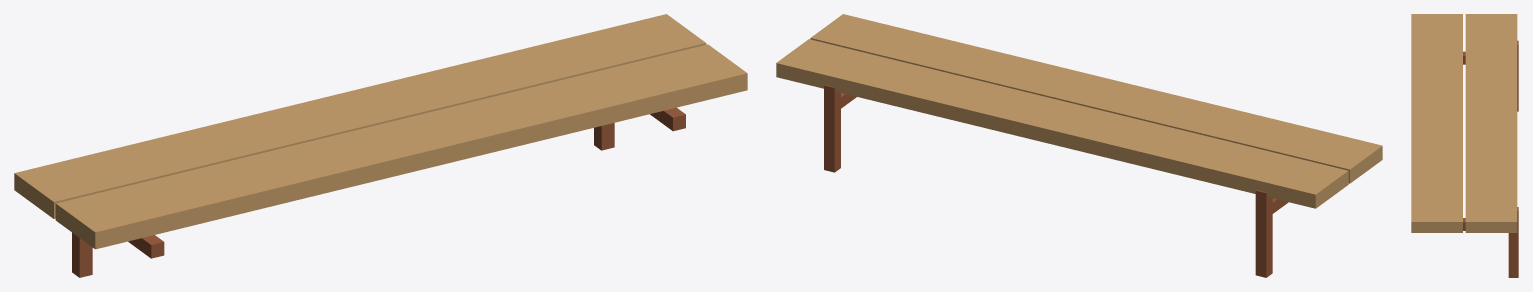
Rendered from GH_Shelf_Wall_05.glb.
The picture shows the model from 3 angles, left to right: view 1: azimuth 30°, elevation 25°; view 2: azimuth 150°, elevation 25°; view 3: azimuth 270°, elevation 25°; orthographic projection. The views are drawn at different scales.
Visible parts, largest first — view 1: GH_Shelf_Wall_05; view 2: GH_Shelf_Wall_05; view 3: GH_Shelf_Wall_05.
Part boxes in pixels (box(x1,y1,x2,y2)): GH_Shelf_Wall_05: box(14, 14, 747, 277); GH_Shelf_Wall_05: box(776, 14, 1382, 277); GH_Shelf_Wall_05: box(1411, 14, 1518, 277).
Size of the model in its own units: 1 by 0.1675 by 0.2175.
1 material, 1 textured.
